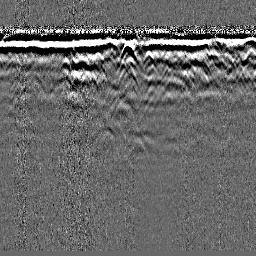cavity: (116, 40, 141, 69)
